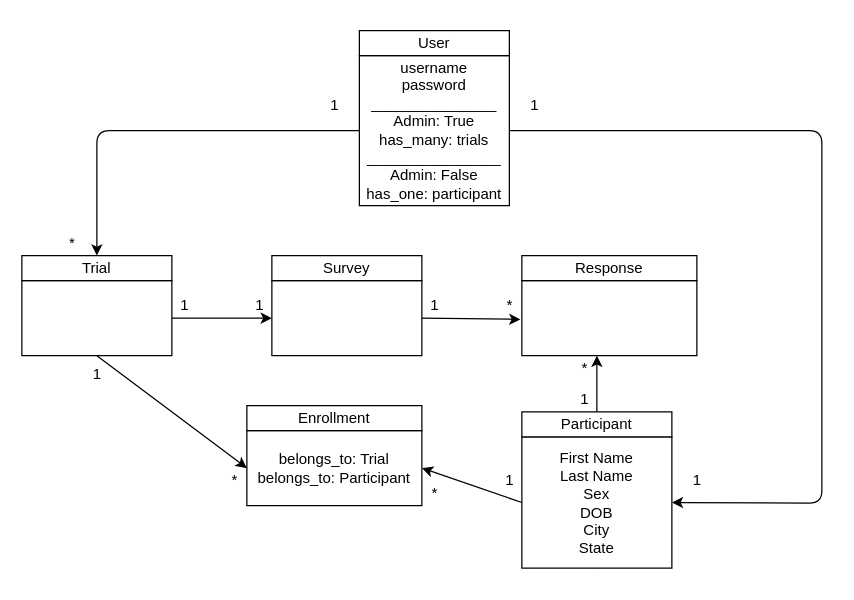
This 854x600 diagram has some shape labels left out. The box of each missing label's shape, as (x1, y1, x2, y2) in pixels:
answers to questions belongs_to: Survey belongs_to: Participant: (521, 279, 697, 356)
Title Description User_id: (21, 279, 172, 356)
Title Questions: (271, 279, 422, 356)
